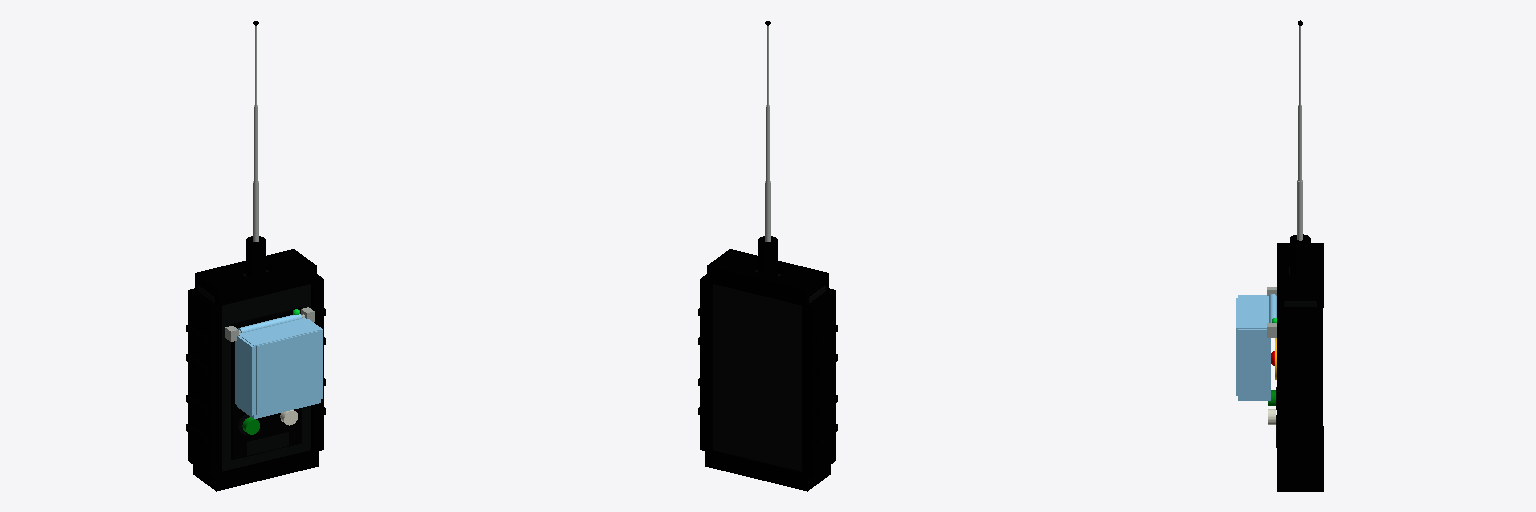
The robot description file, URDF, robot "industrial_rf_pendant_controller":
<robot name="industrial_rf_pendant_controller">
  <link name="enclosure">
    <visual name="body_shell">
      <geometry>
        <mesh filename="assets/meshes/rounded_enclosure.obj" />
        </geometry>
      <material name="charcoal_glass_filled_nylon">
        <color rgba="0.055 0.06 0.058 1" />
        </material>
      </visual>
    <visual name="side_bumper_0">
      <origin xyz="-0.092 0 0" rpy="0 0 0" />
      <geometry>
        <box size="0.02 0.072 0.292" />
        </geometry>
      <material name="black_overmolded_rubber">
        <color rgba="0.01 0.011 0.01 1" />
        </material>
      </visual>
    <visual name="side_bumper_1">
      <origin xyz="0.092 0 0" rpy="0 0 0" />
      <geometry>
        <box size="0.02 0.072 0.292" />
        </geometry>
      <material name="black_overmolded_rubber">
        <color rgba="0.01 0.011 0.01 1" />
        </material>
      </visual>
    <visual name="end_bumper_0">
      <origin xyz="0 0 -0.158" rpy="0 0 0" />
      <geometry>
        <box size="0.184 0.073 0.028" />
        </geometry>
      <material name="black_overmolded_rubber">
        <color rgba="0.01 0.011 0.01 1" />
        </material>
      </visual>
    <visual name="top_bumper_side_0">
      <origin xyz="-0.058 0 0.158" rpy="0 0 0" />
      <geometry>
        <box size="0.062 0.073 0.028" />
        </geometry>
      <material name="black_overmolded_rubber">
        <color rgba="0.01 0.011 0.01 1" />
        </material>
      </visual>
    <visual name="top_bumper_side_1">
      <origin xyz="0.058 0 0.158" rpy="0 0 0" />
      <geometry>
        <box size="0.062 0.073 0.028" />
        </geometry>
      <material name="black_overmolded_rubber">
        <color rgba="0.01 0.011 0.01 1" />
        </material>
      </visual>
    <visual name="top_bumper_bar_0">
      <origin xyz="0 -0.027 0.158" rpy="0 0 0" />
      <geometry>
        <box size="0.058 0.019 0.028" />
        </geometry>
      <material name="black_overmolded_rubber">
        <color rgba="0.01 0.011 0.01 1" />
        </material>
      </visual>
    <visual name="top_bumper_bar_1">
      <origin xyz="0 0.027 0.158" rpy="0 0 0" />
      <geometry>
        <box size="0.058 0.019 0.028" />
        </geometry>
      <material name="black_overmolded_rubber">
        <color rgba="0.01 0.011 0.01 1" />
        </material>
      </visual>
    <visual name="grip_rib_8">
      <origin xyz="-0.104 0 -0.085" rpy="0 0 0" />
      <geometry>
        <box size="0.01 0.06 0.01" />
        </geometry>
      <material name="black_overmolded_rubber">
        <color rgba="0.01 0.011 0.01 1" />
        </material>
      </visual>
    <visual name="grip_rib_9">
      <origin xyz="-0.104 0 -0.035" rpy="0 0 0" />
      <geometry>
        <box size="0.01 0.06 0.01" />
        </geometry>
      <material name="black_overmolded_rubber">
        <color rgba="0.01 0.011 0.01 1" />
        </material>
      </visual>
    <visual name="grip_rib_10">
      <origin xyz="-0.104 0 0.035" rpy="0 0 0" />
      <geometry>
        <box size="0.01 0.06 0.01" />
        </geometry>
      <material name="black_overmolded_rubber">
        <color rgba="0.01 0.011 0.01 1" />
        </material>
      </visual>
    <visual name="grip_rib_11">
      <origin xyz="-0.104 0 0.085" rpy="0 0 0" />
      <geometry>
        <box size="0.01 0.06 0.01" />
        </geometry>
      <material name="black_overmolded_rubber">
        <color rgba="0.01 0.011 0.01 1" />
        </material>
      </visual>
    <visual name="grip_rib_12">
      <origin xyz="0.104 0 -0.085" rpy="0 0 0" />
      <geometry>
        <box size="0.01 0.06 0.01" />
        </geometry>
      <material name="black_overmolded_rubber">
        <color rgba="0.01 0.011 0.01 1" />
        </material>
      </visual>
    <visual name="grip_rib_13">
      <origin xyz="0.104 0 -0.035" rpy="0 0 0" />
      <geometry>
        <box size="0.01 0.06 0.01" />
        </geometry>
      <material name="black_overmolded_rubber">
        <color rgba="0.01 0.011 0.01 1" />
        </material>
      </visual>
    <visual name="grip_rib_14">
      <origin xyz="0.104 0 0.035" rpy="0 0 0" />
      <geometry>
        <box size="0.01 0.06 0.01" />
        </geometry>
      <material name="black_overmolded_rubber">
        <color rgba="0.01 0.011 0.01 1" />
        </material>
      </visual>
    <visual name="grip_rib_15">
      <origin xyz="0.104 0 0.085" rpy="0 0 0" />
      <geometry>
        <box size="0.01 0.06 0.01" />
        </geometry>
      <material name="black_overmolded_rubber">
        <color rgba="0.01 0.011 0.01 1" />
        </material>
      </visual>
    <visual name="front_panel">
      <origin xyz="0 -0.0335 -0.01" rpy="0 0 0" />
      <geometry>
        <box size="0.125 0.004 0.232" />
        </geometry>
      <material name="dark_recessed_front_panel">
        <color rgba="0.02 0.023 0.025 1" />
        </material>
      </visual>
    <visual name="rf_label_plate">
      <origin xyz="0 -0.0368 -0.112" rpy="0 0 0" />
      <geometry>
        <box size="0.075 0.003 0.022" />
        </geometry>
      <material name="charcoal_glass_filled_nylon">
        <color rgba="0.055 0.06 0.058 1" />
        </material>
      </visual>
    <visual name="status_led">
      <origin xyz="0.05 -0.039 0.102" rpy="0 0 0" />
      <geometry>
        <sphere radius="0.006" />
        </geometry>
      <material name="lit_status_lens">
        <color rgba="0.03 0.85 0.25 1" />
        </material>
      </visual>
    <visual name="antenna_socket">
      <origin xyz="0 0 0.156" rpy="0 0 0" />
      <geometry>
        <mesh filename="assets/meshes/antenna_socket.obj" />
        </geometry>
      <material name="black_overmolded_rubber">
        <color rgba="0.01 0.011 0.01 1" />
        </material>
      </visual>
    <visual name="e_stop_collar">
      <origin xyz="0 -0.0353 0.015" rpy="1.5708 0 0" />
      <geometry>
        <mesh filename="assets/meshes/e_stop_collar.obj" />
        </geometry>
      <material name="safety_yellow">
        <color rgba="1 0.78 0.03 1" />
        </material>
      </visual>
    <visual name="button_collar_0">
      <origin xyz="-0.034 -0.0352 -0.07" rpy="1.5708 0 0" />
      <geometry>
        <mesh filename="assets/meshes/button_collar_0.obj" />
        </geometry>
      <material name="charcoal_glass_filled_nylon">
        <color rgba="0.055 0.06 0.058 1" />
        </material>
      </visual>
    <visual name="button_collar_1">
      <origin xyz="0.034 -0.0352 -0.07" rpy="1.5708 0 0" />
      <geometry>
        <mesh filename="assets/meshes/button_collar_1.obj" />
        </geometry>
      <material name="charcoal_glass_filled_nylon">
        <color rgba="0.055 0.06 0.058 1" />
        </material>
      </visual>
    <visual name="hinge_leaf">
      <origin xyz="0 -0.032 0.095" rpy="0 0 0" />
      <geometry>
        <box size="0.126 0.004 0.014" />
        </geometry>
      <material name="brushed_stainless_steel">
        <color rgba="0.68 0.7 0.68 1" />
        </material>
      </visual>
    <visual name="hinge_lug_0">
      <origin xyz="-0.068 -0.043 0.095" rpy="0 0 0" />
      <geometry>
        <box size="0.014 0.018 0.018" />
        </geometry>
      <material name="brushed_stainless_steel">
        <color rgba="0.68 0.7 0.68 1" />
        </material>
      </visual>
    <visual name="hinge_lug_1">
      <origin xyz="0.068 -0.043 0.095" rpy="0 0 0" />
      <geometry>
        <box size="0.014 0.018 0.018" />
        </geometry>
      <material name="brushed_stainless_steel">
        <color rgba="0.68 0.7 0.68 1" />
        </material>
      </visual>
    <visual name="guard_hinge_pin">
      <origin xyz="0 -0.043 0.095" rpy="0 1.5708 0" />
      <geometry>
        <cylinder radius="0.0032" length="0.142" />
        </geometry>
      <material name="brushed_stainless_steel">
        <color rgba="0.68 0.7 0.68 1" />
        </material>
      </visual>
    <collision name="body_shell">
      <geometry>
        <mesh filename="assets/meshes/rounded_enclosure.obj" />
        </geometry>
      </collision>
    <collision name="side_bumper_0">
      <origin xyz="-0.092 0 0" rpy="0 0 0" />
      <geometry>
        <box size="0.02 0.072 0.292" />
        </geometry>
      </collision>
    <collision name="side_bumper_1">
      <origin xyz="0.092 0 0" rpy="0 0 0" />
      <geometry>
        <box size="0.02 0.072 0.292" />
        </geometry>
      </collision>
    <collision name="end_bumper_0">
      <origin xyz="0 0 -0.158" rpy="0 0 0" />
      <geometry>
        <box size="0.184 0.073 0.028" />
        </geometry>
      </collision>
    <collision name="top_bumper_side_0">
      <origin xyz="-0.058 0 0.158" rpy="0 0 0" />
      <geometry>
        <box size="0.062 0.073 0.028" />
        </geometry>
      </collision>
    <collision name="top_bumper_side_1">
      <origin xyz="0.058 0 0.158" rpy="0 0 0" />
      <geometry>
        <box size="0.062 0.073 0.028" />
        </geometry>
      </collision>
    <collision name="top_bumper_bar_0">
      <origin xyz="0 -0.027 0.158" rpy="0 0 0" />
      <geometry>
        <box size="0.058 0.019 0.028" />
        </geometry>
      </collision>
    <collision name="top_bumper_bar_1">
      <origin xyz="0 0.027 0.158" rpy="0 0 0" />
      <geometry>
        <box size="0.058 0.019 0.028" />
        </geometry>
      </collision>
    <collision name="grip_rib_8">
      <origin xyz="-0.104 0 -0.085" rpy="0 0 0" />
      <geometry>
        <box size="0.01 0.06 0.01" />
        </geometry>
      </collision>
    <collision name="grip_rib_9">
      <origin xyz="-0.104 0 -0.035" rpy="0 0 0" />
      <geometry>
        <box size="0.01 0.06 0.01" />
        </geometry>
      </collision>
    <collision name="grip_rib_10">
      <origin xyz="-0.104 0 0.035" rpy="0 0 0" />
      <geometry>
        <box size="0.01 0.06 0.01" />
        </geometry>
      </collision>
    <collision name="grip_rib_11">
      <origin xyz="-0.104 0 0.085" rpy="0 0 0" />
      <geometry>
        <box size="0.01 0.06 0.01" />
        </geometry>
      </collision>
    <collision name="grip_rib_12">
      <origin xyz="0.104 0 -0.085" rpy="0 0 0" />
      <geometry>
        <box size="0.01 0.06 0.01" />
        </geometry>
      </collision>
    <collision name="grip_rib_13">
      <origin xyz="0.104 0 -0.035" rpy="0 0 0" />
      <geometry>
        <box size="0.01 0.06 0.01" />
        </geometry>
      </collision>
    <collision name="grip_rib_14">
      <origin xyz="0.104 0 0.035" rpy="0 0 0" />
      <geometry>
        <box size="0.01 0.06 0.01" />
        </geometry>
      </collision>
    <collision name="grip_rib_15">
      <origin xyz="0.104 0 0.085" rpy="0 0 0" />
      <geometry>
        <box size="0.01 0.06 0.01" />
        </geometry>
      </collision>
    <collision name="front_panel">
      <origin xyz="0 -0.0335 -0.01" rpy="0 0 0" />
      <geometry>
        <box size="0.125 0.004 0.232" />
        </geometry>
      </collision>
    <collision name="rf_label_plate">
      <origin xyz="0 -0.0368 -0.112" rpy="0 0 0" />
      <geometry>
        <box size="0.075 0.003 0.022" />
        </geometry>
      </collision>
    <collision name="status_led">
      <origin xyz="0.05 -0.039 0.102" rpy="0 0 0" />
      <geometry>
        <sphere radius="0.006" />
        </geometry>
      </collision>
    <collision name="antenna_socket">
      <origin xyz="0 0 0.156" rpy="0 0 0" />
      <geometry>
        <mesh filename="assets/meshes/antenna_socket.obj" />
        </geometry>
      </collision>
    <collision name="e_stop_collar">
      <origin xyz="0 -0.0353 0.015" rpy="1.5708 0 0" />
      <geometry>
        <mesh filename="assets/meshes/e_stop_collar.obj" />
        </geometry>
      </collision>
    <collision name="button_collar_0">
      <origin xyz="-0.034 -0.0352 -0.07" rpy="1.5708 0 0" />
      <geometry>
        <mesh filename="assets/meshes/button_collar_0.obj" />
        </geometry>
      </collision>
    <collision name="button_collar_1">
      <origin xyz="0.034 -0.0352 -0.07" rpy="1.5708 0 0" />
      <geometry>
        <mesh filename="assets/meshes/button_collar_1.obj" />
        </geometry>
      </collision>
    <collision name="hinge_leaf">
      <origin xyz="0 -0.032 0.095" rpy="0 0 0" />
      <geometry>
        <box size="0.126 0.004 0.014" />
        </geometry>
      </collision>
    <collision name="hinge_lug_0">
      <origin xyz="-0.068 -0.043 0.095" rpy="0 0 0" />
      <geometry>
        <box size="0.014 0.018 0.018" />
        </geometry>
      </collision>
    <collision name="hinge_lug_1">
      <origin xyz="0.068 -0.043 0.095" rpy="0 0 0" />
      <geometry>
        <box size="0.014 0.018 0.018" />
        </geometry>
      </collision>
    <collision name="guard_hinge_pin">
      <origin xyz="0 -0.043 0.095" rpy="0 1.5708 0" />
      <geometry>
        <cylinder radius="0.0032" length="0.142" />
        </geometry>
      </collision>
    </link>
  <link name="guard">
    <visual name="guard_barrel">
      <origin xyz="0 0 0" rpy="0 1.5708 0" />
      <geometry>
        <cylinder radius="0.0065" length="0.108" />
        </geometry>
      <material name="clear_smoked_polycarbonate">
        <color rgba="0.58 0.82 0.95 0.36" />
        </material>
      </visual>
    <visual name="front_shield">
      <origin xyz="0 -0.055 -0.06" rpy="0 0 0" />
      <geometry>
        <box size="0.112 0.004 0.118" />
        </geometry>
      <material name="clear_smoked_polycarbonate">
        <color rgba="0.58 0.82 0.95 0.36" />
        </material>
      </visual>
    <visual name="side_cheek_0">
      <origin xyz="-0.06 -0.029 -0.06" rpy="0 0 0" />
      <geometry>
        <box size="0.008 0.052 0.118" />
        </geometry>
      <material name="clear_smoked_polycarbonate">
        <color rgba="0.58 0.82 0.95 0.36" />
        </material>
      </visual>
    <visual name="side_cheek_1">
      <origin xyz="0.06 -0.029 -0.06" rpy="0 0 0" />
      <geometry>
        <box size="0.008 0.052 0.118" />
        </geometry>
      <material name="clear_smoked_polycarbonate">
        <color rgba="0.58 0.82 0.95 0.36" />
        </material>
      </visual>
    <visual name="lower_lip">
      <origin xyz="0 -0.029 -0.122" rpy="0 0 0" />
      <geometry>
        <box size="0.12 0.052 0.008" />
        </geometry>
      <material name="clear_smoked_polycarbonate">
        <color rgba="0.58 0.82 0.95 0.36" />
        </material>
      </visual>
    <visual name="upper_lip">
      <origin xyz="0 -0.029 -0.004" rpy="0 0 0" />
      <geometry>
        <box size="0.12 0.052 0.008" />
        </geometry>
      <material name="clear_smoked_polycarbonate">
        <color rgba="0.58 0.82 0.95 0.36" />
        </material>
      </visual>
    <collision name="guard_barrel">
      <origin xyz="0 0 0" rpy="0 1.5708 0" />
      <geometry>
        <cylinder radius="0.0065" length="0.108" />
        </geometry>
      </collision>
    <collision name="front_shield">
      <origin xyz="0 -0.055 -0.06" rpy="0 0 0" />
      <geometry>
        <box size="0.112 0.004 0.118" />
        </geometry>
      </collision>
    <collision name="side_cheek_0">
      <origin xyz="-0.06 -0.029 -0.06" rpy="0 0 0" />
      <geometry>
        <box size="0.008 0.052 0.118" />
        </geometry>
      </collision>
    <collision name="side_cheek_1">
      <origin xyz="0.06 -0.029 -0.06" rpy="0 0 0" />
      <geometry>
        <box size="0.008 0.052 0.118" />
        </geometry>
      </collision>
    <collision name="lower_lip">
      <origin xyz="0 -0.029 -0.122" rpy="0 0 0" />
      <geometry>
        <box size="0.12 0.052 0.008" />
        </geometry>
      </collision>
    <collision name="upper_lip">
      <origin xyz="0 -0.029 -0.004" rpy="0 0 0" />
      <geometry>
        <box size="0.12 0.052 0.008" />
        </geometry>
      </collision>
    </link>
  <link name="e_stop">
    <visual name="mushroom">
      <origin xyz="0 0 0" rpy="1.5708 0 0" />
      <geometry>
        <mesh filename="assets/meshes/e_stop_mushroom.obj" />
        </geometry>
      <material name="emergency_stop_red">
        <color rgba="0.9 0.02 0.01 1" />
        </material>
      </visual>
    <collision name="mushroom">
      <origin xyz="0 0 0" rpy="1.5708 0 0" />
      <geometry>
        <mesh filename="assets/meshes/e_stop_mushroom.obj" />
        </geometry>
      </collision>
    </link>
  <link name="button_0">
    <visual name="cap">
      <origin xyz="0 -0.006 0" rpy="1.5708 0 0" />
      <geometry>
        <cylinder radius="0.0125" length="0.012" />
        </geometry>
      <material name="green_momentary_button">
        <color rgba="0.02 0.55 0.09 1" />
        </material>
      </visual>
    <collision name="cap">
      <origin xyz="0 -0.006 0" rpy="1.5708 0 0" />
      <geometry>
        <cylinder radius="0.0125" length="0.012" />
        </geometry>
      </collision>
    </link>
  <link name="button_1">
    <visual name="cap">
      <origin xyz="0 -0.006 0" rpy="1.5708 0 0" />
      <geometry>
        <cylinder radius="0.0125" length="0.012" />
        </geometry>
      <material name="white_momentary_button">
        <color rgba="0.88 0.88 0.82 1" />
        </material>
      </visual>
    <collision name="cap">
      <origin xyz="0 -0.006 0" rpy="1.5708 0 0" />
      <geometry>
        <cylinder radius="0.0125" length="0.012" />
        </geometry>
      </collision>
    </link>
  <link name="antenna">
    <visual name="lower_member">
      <origin xyz="0 0 -0.035" rpy="0 0 0" />
      <geometry>
        <cylinder radius="0.0045" length="0.27" />
        </geometry>
      <material name="brushed_stainless_steel">
        <color rgba="0.68 0.7 0.68 1" />
        </material>
      </visual>
    <visual name="middle_member">
      <origin xyz="0 0 0.12" rpy="0 0 0" />
      <geometry>
        <cylinder radius="0.0032" length="0.22" />
        </geometry>
      <material name="brushed_stainless_steel">
        <color rgba="0.68 0.7 0.68 1" />
        </material>
      </visual>
    <visual name="tip_whip">
      <origin xyz="0 0 0.28" rpy="0 0 0" />
      <geometry>
        <cylinder radius="0.0018" length="0.18" />
        </geometry>
      <material name="brushed_stainless_steel">
        <color rgba="0.68 0.7 0.68 1" />
        </material>
      </visual>
    <visual name="tip_cap">
      <origin xyz="0 0 0.372" rpy="0 0 0" />
      <geometry>
        <sphere radius="0.0042" />
        </geometry>
      <material name="black_overmolded_rubber">
        <color rgba="0.01 0.011 0.01 1" />
        </material>
      </visual>
    <collision name="lower_member">
      <origin xyz="0 0 -0.035" rpy="0 0 0" />
      <geometry>
        <cylinder radius="0.0045" length="0.27" />
        </geometry>
      </collision>
    <collision name="middle_member">
      <origin xyz="0 0 0.12" rpy="0 0 0" />
      <geometry>
        <cylinder radius="0.0032" length="0.22" />
        </geometry>
      </collision>
    <collision name="tip_whip">
      <origin xyz="0 0 0.28" rpy="0 0 0" />
      <geometry>
        <cylinder radius="0.0018" length="0.18" />
        </geometry>
      </collision>
    <collision name="tip_cap">
      <origin xyz="0 0 0.372" rpy="0 0 0" />
      <geometry>
        <sphere radius="0.0042" />
        </geometry>
      </collision>
    </link>
  <joint name="guard_hinge" type="revolute">
    <origin xyz="0 -0.043 0.095" rpy="0 0 0" />
    <parent link="enclosure" />
    <child link="guard" />
    <axis xyz="-1 0 0" />
    <limit effort="2" velocity="2.5" lower="0" upper="1.75" />
    </joint>
  <joint name="e_stop_push" type="prismatic">
    <origin xyz="0 -0.0393 0.015" rpy="0 0 0" />
    <parent link="enclosure" />
    <child link="e_stop" />
    <axis xyz="0 1 0" />
    <limit effort="35" velocity="0.18" lower="0" upper="0.01" />
    </joint>
  <joint name="button_0_push" type="prismatic">
    <origin xyz="-0.034 -0.0384 -0.07" rpy="0 0 0" />
    <parent link="enclosure" />
    <child link="button_0" />
    <axis xyz="0 1 0" />
    <limit effort="8" velocity="0.2" lower="0" upper="0.006" />
    </joint>
  <joint name="button_1_push" type="prismatic">
    <origin xyz="0.034 -0.0384 -0.07" rpy="0 0 0" />
    <parent link="enclosure" />
    <child link="button_1" />
    <axis xyz="0 1 0" />
    <limit effort="8" velocity="0.2" lower="0" upper="0.006" />
    </joint>
  <joint name="antenna_slide" type="prismatic">
    <origin xyz="0 0 0.222" rpy="0 0 0" />
    <parent link="enclosure" />
    <child link="antenna" />
    <axis xyz="0 0 1" />
    <limit effort="4" velocity="0.35" lower="0" upper="0.14" />
    </joint>
  </robot>

--- Facts derived from the render (not from the file) ---
Views: 3 orthographic renders of the robot side by side, from view 1: azimuth 30°, elevation 25°; view 2: azimuth 150°, elevation 25°; view 3: azimuth 270°, elevation 25°.
Robot: industrial_rf_pendant_controller — 6 links, 5 joints (1 revolute, 4 prismatic); root link enclosure; default pose: all joints at 0.
Links seen in each view (by area): view 1: enclosure, guard, antenna; view 2: enclosure, antenna; view 3: enclosure, guard, antenna.
Link boxes in pixels (x1,y1,x2,y2): enclosure: [186, 236, 325, 491]; guard: [235, 314, 322, 418]; antenna: [253, 21, 258, 241]; enclosure: [698, 236, 837, 491]; antenna: [765, 21, 770, 241]; enclosure: [1267, 234, 1323, 491]; guard: [1236, 294, 1276, 400]; antenna: [1297, 20, 1302, 240].
Bounding box of the posed robot: 0.218 × 0.1365 × 0.7702 m (x, y, z).
Meshes: 6 distinct files referenced, 5 mesh visuals loaded (5 OBJ); not drawn: 1 (reference not matched to a file when rendering).
